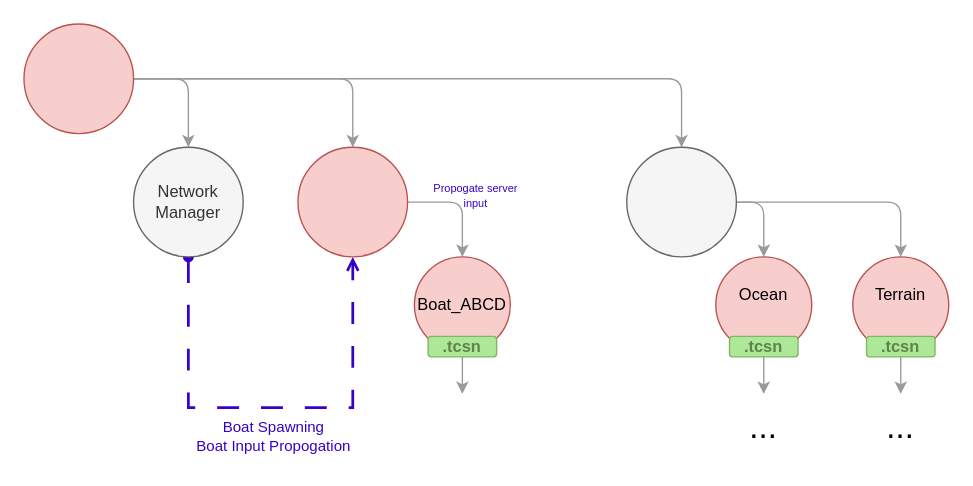
Image size: 973x486. Some labels were removed from this diagram. Each missing label, with the box of its shape:
BoatSpawner: (297, 146, 408, 257)
MainScene: (23, 23, 134, 134)
World: (625, 146, 736, 257)
